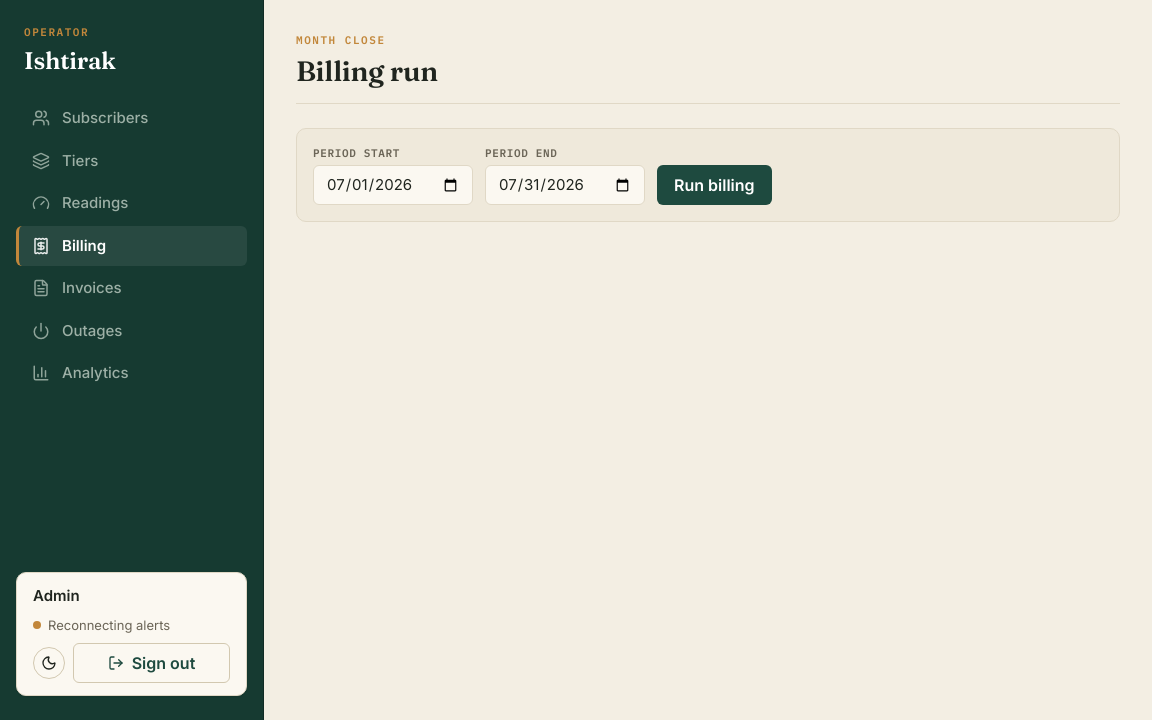
Scenario: operator pages › shows held invoice count after a mixed billing run
The width and height of the screenshot is (1152, 720).
Expected: the text "Month close" is shown, [296,33,386,47]
Click the button "Run billing". click: (714, 185)
box: [657,165,772,205]
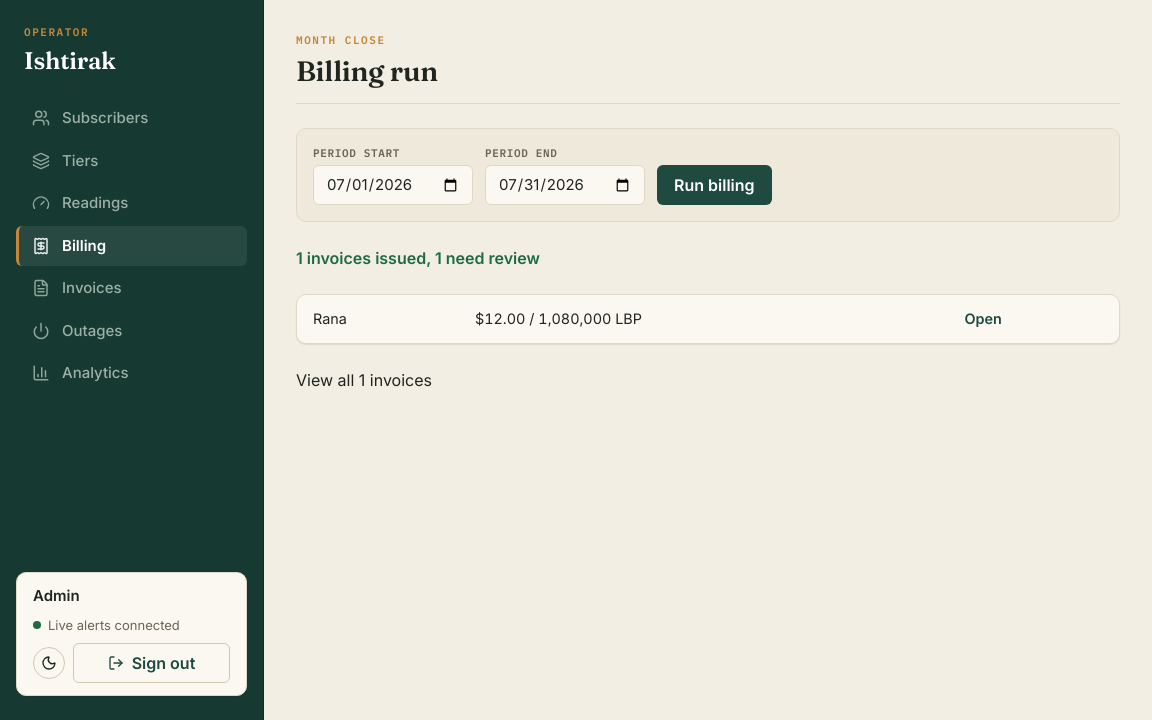
Result: the link "1 invoices issued, 1 need review" is shown at [296,248,540,268]
